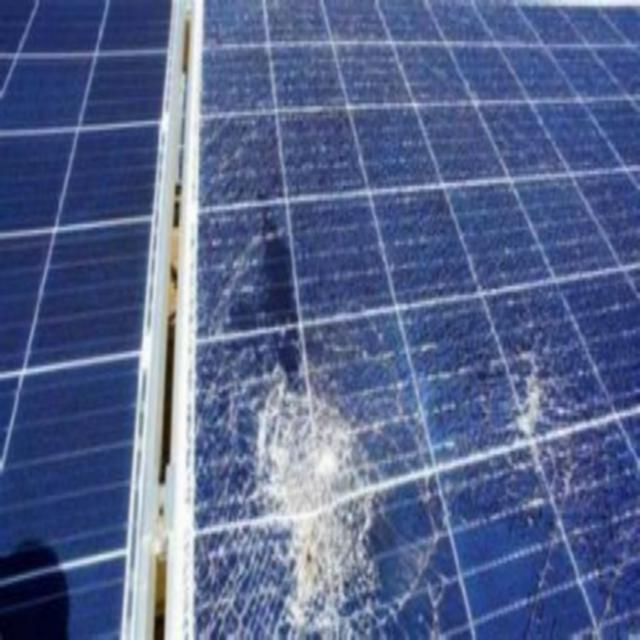cracked: (183, 23, 636, 640)
